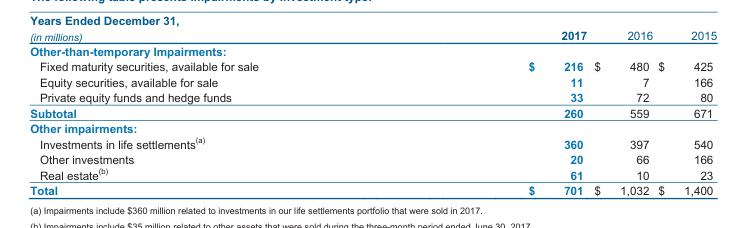table: (29, 28, 716, 196)
table column: (29, 28, 392, 196), (392, 28, 589, 196), (589, 28, 654, 196), (654, 28, 716, 196)
table column header: (29, 28, 716, 42)
table projected row header: (29, 42, 716, 58), (29, 120, 716, 134)
table row: (29, 134, 716, 151), (29, 165, 716, 182), (29, 42, 716, 58), (29, 73, 716, 89), (29, 104, 716, 120), (29, 58, 716, 73), (29, 89, 716, 104), (29, 28, 716, 42), (29, 120, 716, 134), (29, 151, 716, 165), (29, 182, 716, 196)
